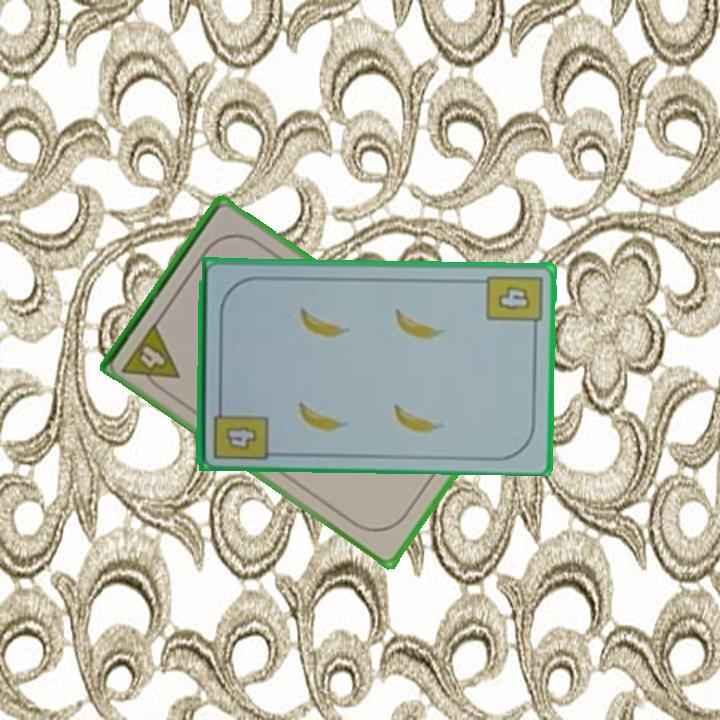4b: (209, 396, 270, 462), (483, 271, 544, 334)
4p: (118, 318, 183, 397)
